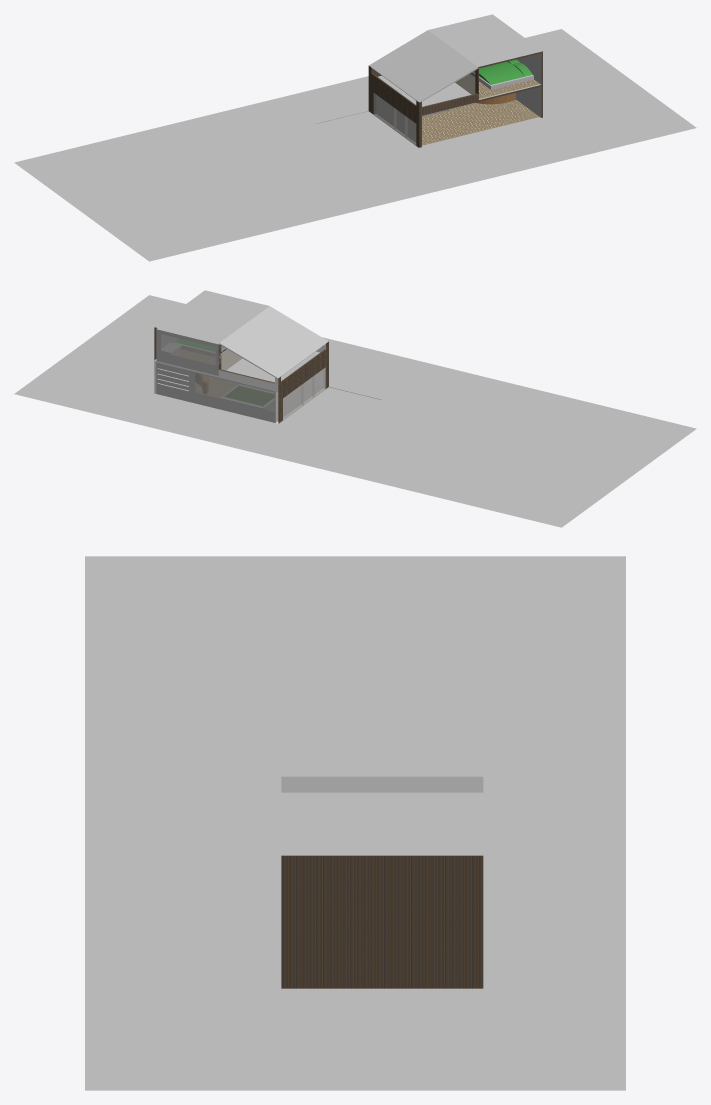
File: asteroid_villa.dae
3 renders of one model, top to bottom at view 1: azimuth 30°, elevation 25°; view 2: azimuth 150°, elevation 25°; view 3: azimuth 270°, elevation 25°, orthographic. The views are drawn at different scales.
Visible parts, largest first — view 1: SketchUp (×15); view 2: SketchUp (×18); view 3: SketchUp (×3).
Part boxes in pixels (box(x1,y1,x2,y2)): SketchUp (×15): box(14, 14, 696, 261); SketchUp (×18): box(14, 290, 696, 527); SketchUp (×3): box(85, 556, 625, 1090).
Size of the model in its own units: 7149 by 3059 by 834.
